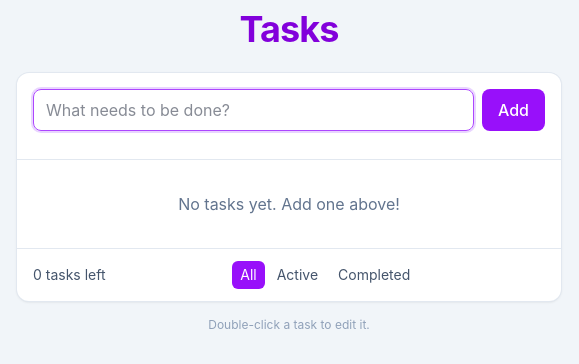
Test: US-2 Edit a task › double-click to edit, Enter saves
Type "Old" into the field named "New task".
click(254, 110); type("Old")  # box [33,89,474,131]
Then press Enter
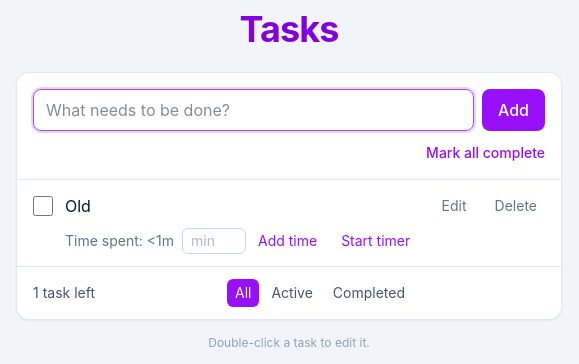
Double-click the text "Old".
double_click(78, 206)  # box [65,196,91,216]
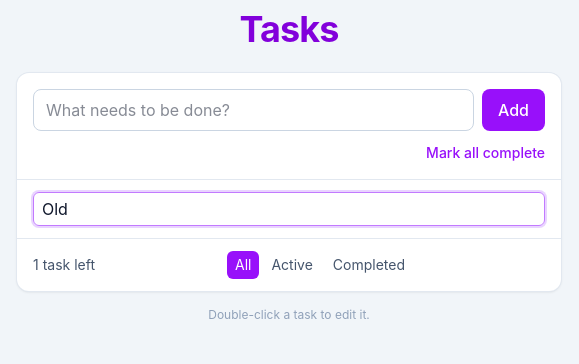
Now the field named "Edit task \"Old\"" holds "Old"
Replace the text in the field named "Edit task \"Old\"" with "  New  " at (289, 209), box [33,192,545,226]
Then press Enter
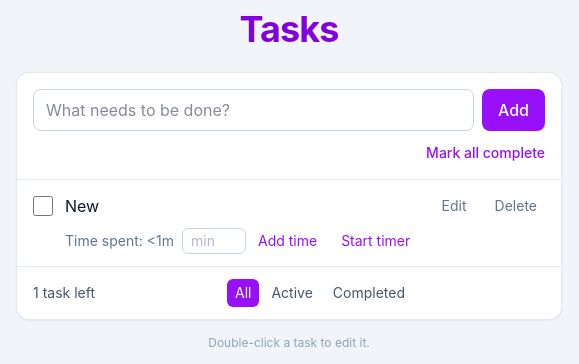
Now the text "New" is shown, box [65,196,99,216]
